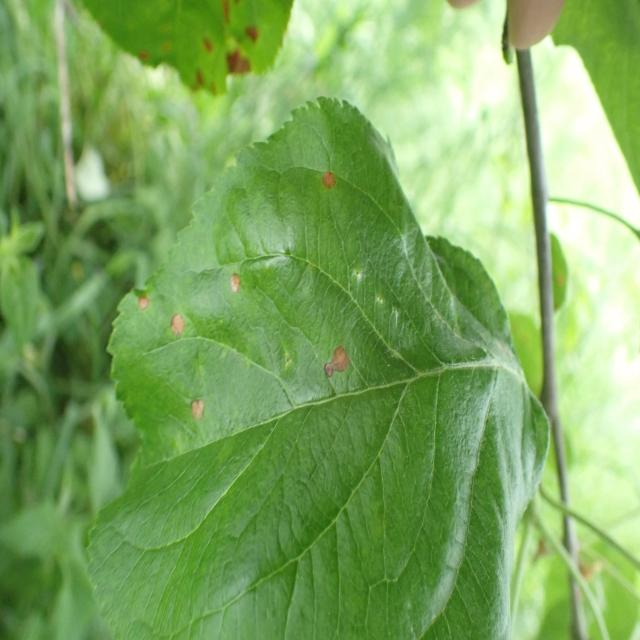Black Rot: (315, 337, 352, 399), (168, 384, 210, 432), (221, 44, 256, 90), (122, 282, 153, 325), (222, 268, 250, 314), (243, 15, 271, 57), (318, 157, 344, 200), (167, 308, 196, 345), (200, 35, 212, 66)
